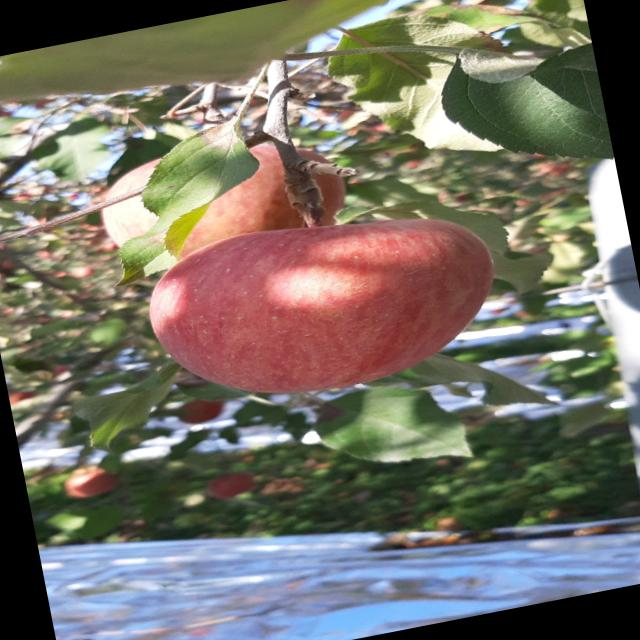fresh: (127, 183, 527, 428)
